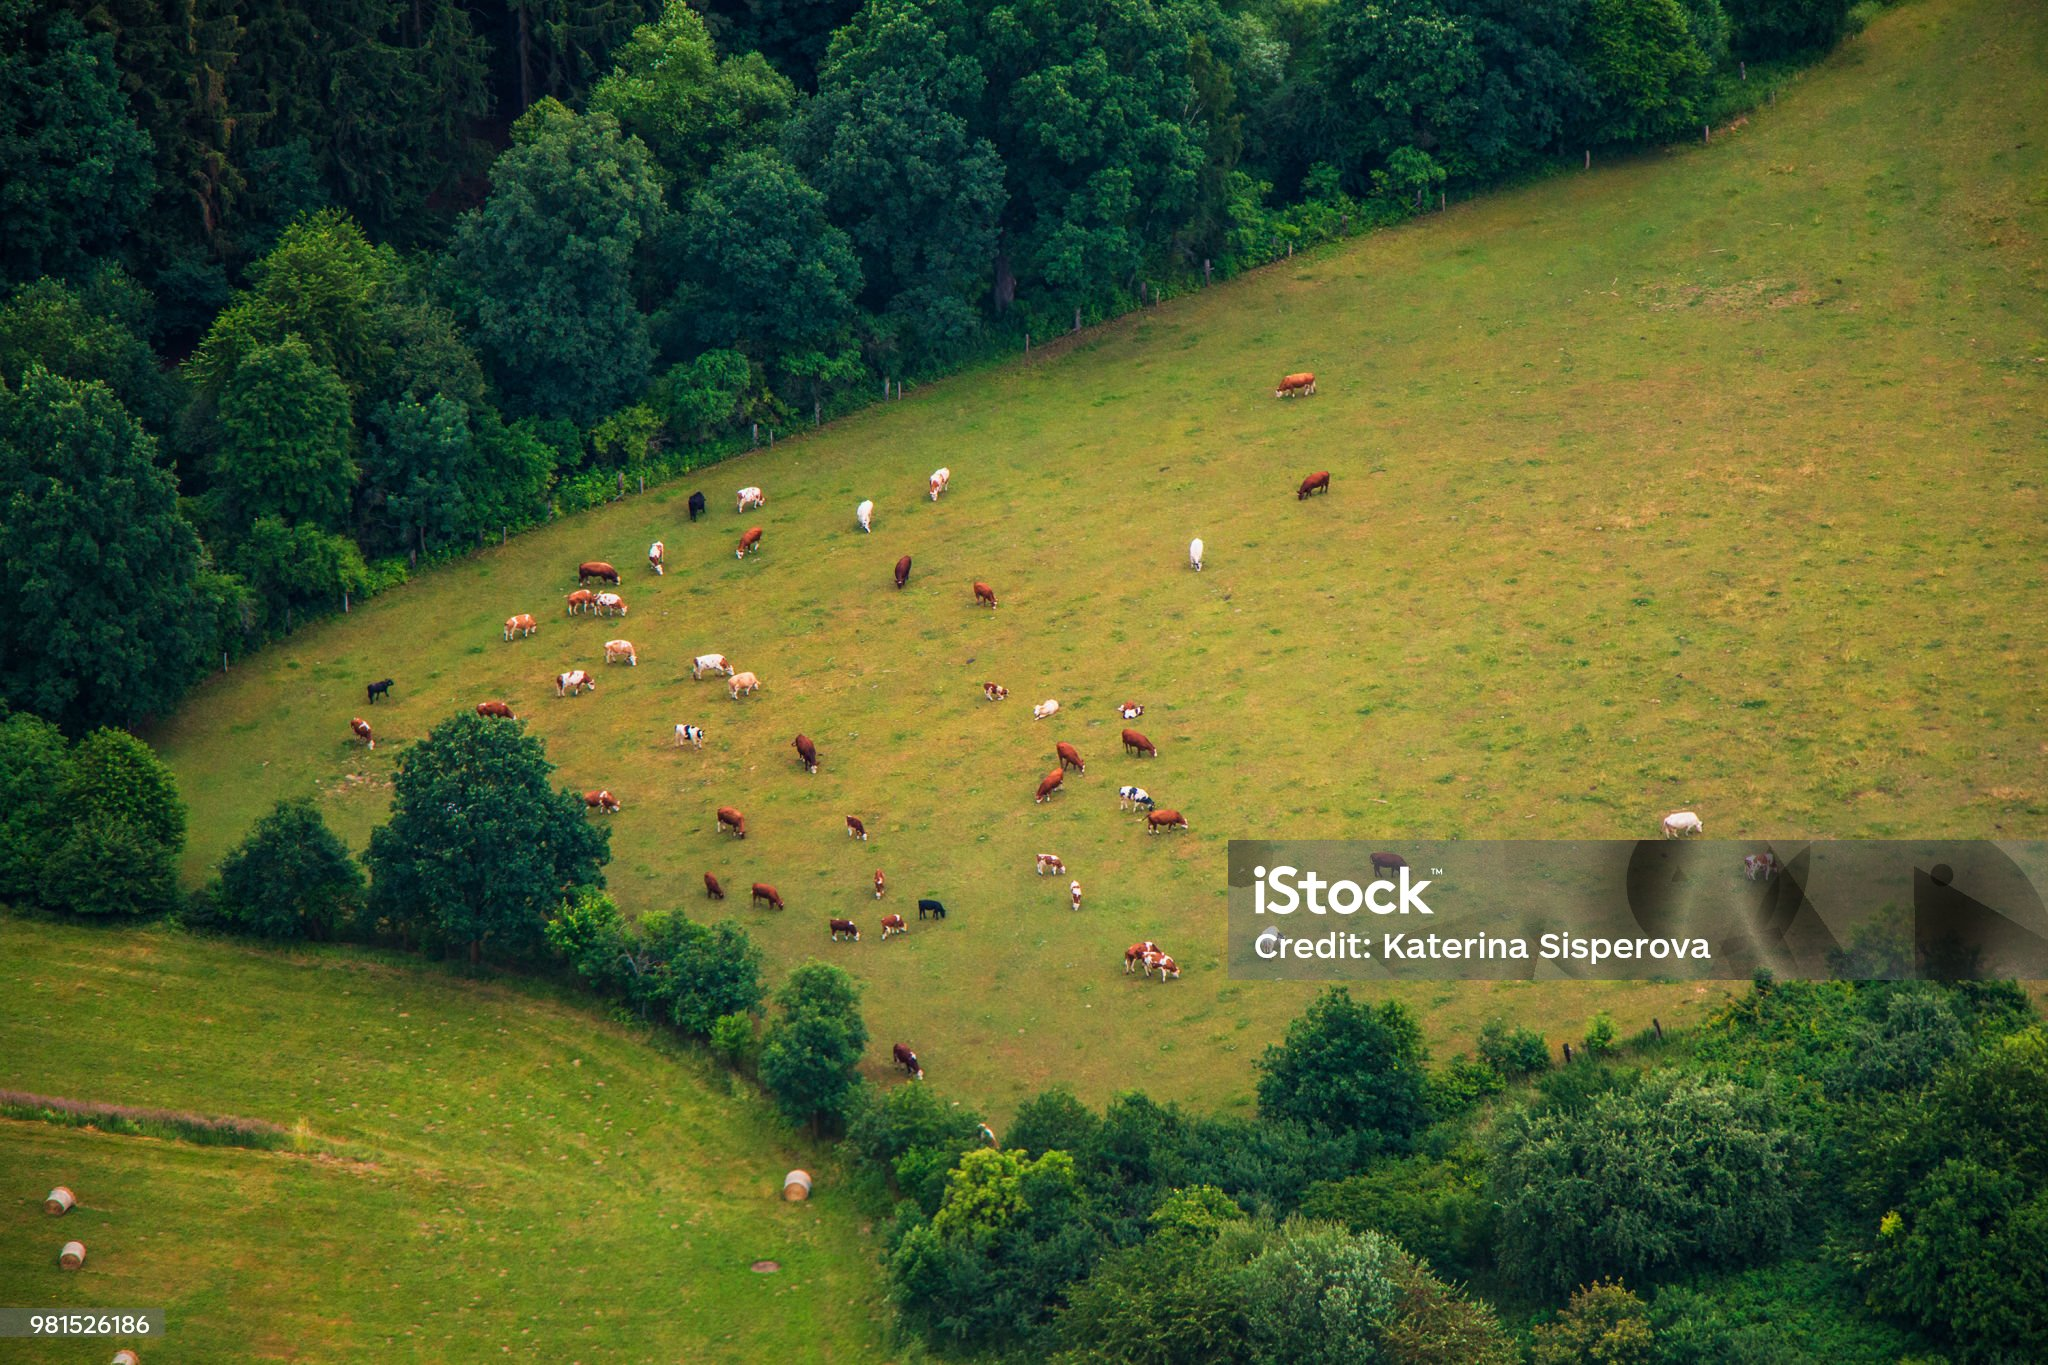cattle: (1648, 804, 1711, 842), (882, 1039, 936, 1080), (915, 465, 967, 507), (1176, 529, 1223, 570), (1745, 846, 1791, 887), (787, 730, 825, 777), (1361, 846, 1415, 879), (1147, 948, 1189, 987), (1271, 369, 1323, 401), (1294, 468, 1337, 506), (728, 481, 774, 516), (1112, 934, 1159, 967), (729, 526, 774, 561), (688, 651, 735, 682), (1118, 725, 1160, 760), (573, 556, 621, 587), (630, 538, 675, 571), (1109, 785, 1159, 814), (847, 497, 885, 535), (714, 800, 751, 839), (824, 911, 863, 948), (548, 667, 600, 695), (576, 785, 624, 814), (678, 487, 714, 526), (344, 711, 381, 750), (749, 877, 786, 916), (1054, 737, 1093, 772), (467, 698, 521, 724), (962, 576, 1003, 609), (1147, 804, 1192, 833), (696, 865, 729, 903), (501, 609, 541, 641), (601, 637, 641, 669), (970, 1117, 1005, 1152), (1032, 769, 1067, 803), (886, 556, 920, 590), (563, 587, 600, 615), (970, 676, 1010, 702), (673, 719, 707, 750), (1112, 695, 1148, 722), (598, 588, 630, 619), (879, 911, 911, 941), (729, 670, 763, 699), (844, 812, 872, 846), (362, 676, 399, 702), (1029, 695, 1064, 721), (912, 897, 952, 920), (1026, 855, 1064, 877), (1061, 879, 1092, 906), (869, 865, 892, 899)
